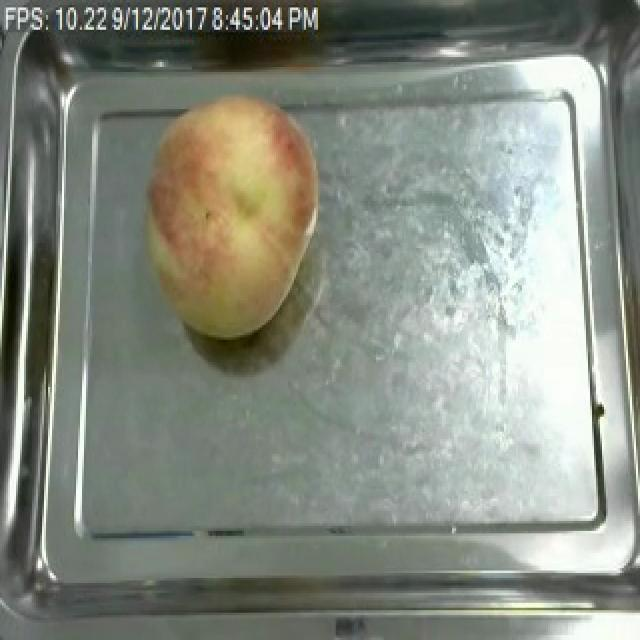Fruit: (136, 87, 326, 345)
